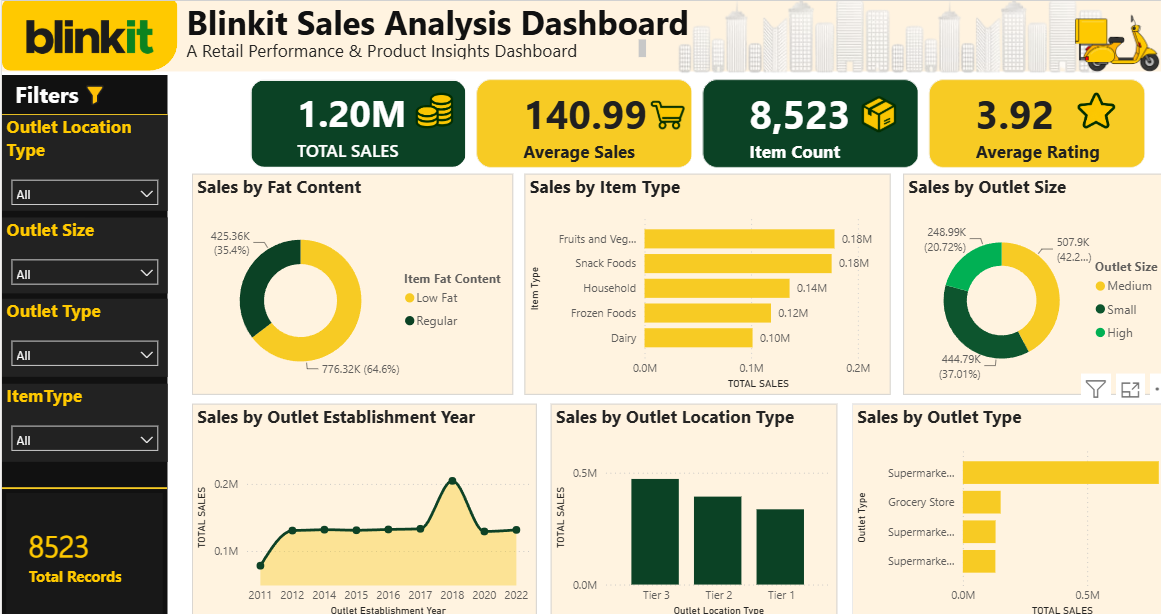

The dashboard page shown, as its layout file describes it:
{"tool":"powerbi","page":{"name":"Page 1","canvas":[1280,720],"ordinal":0},"visuals":[{"type":"cardVisual","fields":{"Data":["Blinkit_Sales.TOTAL SALES"]},"box":[252.5,112.5,269,130.4],"z":0},{"type":"cardVisual","fields":{"Data":["Blinkit_Sales.Average Sales"]},"box":[498.1,112.5,269,130],"z":1000},{"type":"cardVisual","fields":{"Data":["BlinkIT-Grocery-Data.Number of Items Display"]},"box":[743.7,112.5,269,130],"z":2000},{"type":"cardVisual","fields":{"Data":["Blinkit_Sales.Average Rating"]},"box":[989.4,112.5,269,130],"z":3000},{"type":"clusteredBarChart","title":"Sales by Item Type","fields":{"Category":["Blinkit_Sales.Item Type"],"Y":["Blinkit_Sales.TOTAL SALES"]},"box":[568.1,231.9,397.9,240],"z":4000},{"type":"donutChart","title":"Sales by Fat Content","fields":{"Category":["Blinkit_Sales.Item Fat Content"],"Y":["Blinkit_Sales.TOTAL SALES"]},"box":[205.8,231.9,348.5,240.1],"z":5000},{"type":"donutChart","title":"Sales by Outlet Size","fields":{"Category":["Blinkit_Sales.Outlet Size"],"Y":["Blinkit_Sales.TOTAL SALES"]},"box":[979.5,231.9,300.5,240],"z":6000},{"type":"lineChart","title":"Sales by Outlet Establishment Year","fields":{"Category":["Blinkit_Sales.Outlet Establishment Year"],"Y":["Blinkit_Sales.TOTAL SALES"]},"box":[205.8,482.6,374.6,237.4],"z":7000},{"type":"clusteredColumnChart","title":"Sales by Outlet Location Type","fields":{"Category":["Blinkit_Sales.Outlet Location Type"],"Y":["Blinkit_Sales.TOTAL SALES"]},"box":[596.2,482.6,311.5,237.4],"z":8000},{"type":"clusteredBarChart","title":"Sales by Outlet Type","fields":{"Category":["Blinkit_Sales.Outlet Type"],"Y":["Blinkit_Sales.TOTAL SALES"]},"box":[923,482.6,357,237.4],"z":9000},{"type":"shape","box":[0,12.3,1280,109],"z":10000},{"type":"textbox","title":"Blinkit Sales Analysis Dashboard","box":[194.9,42.5,700,45],"z":11000},{"type":"textbox","box":[194.9,81,509.1,31.6],"z":12000},{"type":"shape","box":[0,124.9,179.8,595.5],"z":13000},{"type":"textbox","box":[45.3,12,90.6,52.1],"z":14000},{"type":"textbox","box":[9.6,124.9,112.5,65.9],"z":15000},{"type":"shape","box":[0,104.3,179.8,127.6],"z":16000},{"type":"slicer","title":"Outlet Location Type","fields":{"Values":["Blinkit_Sales.Outlet Location Type"]},"box":[0,168.8,179.8,104.3],"z":17000},{"type":"slicer","title":"Outlet Size","fields":{"Values":["Blinkit_Sales.Outlet Size"]},"box":[0,279.5,179.8,82.3],"z":18000},{"type":"slicer","title":"Outlet Type","fields":{"Values":["Blinkit_Sales.Outlet Type"]},"box":[0,368.2,179.8,85.1],"z":19000},{"type":"slicer","title":"ItemType","fields":{"Values":["Blinkit_Sales.Item Type"]},"box":[0,459.7,179.8,85.1],"z":20000},{"type":"shape","box":[0,42.5,190.7,78.2],"z":21000},{"type":"image","box":[5.4,0,179.8,167.4],"z":22000},{"type":"image","box":[649.1,0,631.2,157.8],"z":23000},{"type":"image","box":[1143.2,20.4,135.8,133.1],"z":24000},{"type":"image","box":[66.5,134.4,69.2,25.8],"z":25000},{"type":"shape","box":[0,545.8,179.2,55.7],"z":26000},{"type":"image","box":[441.2,143.9,57,39.4],"z":28000},{"type":"image","box":[704.6,152.1,36.7,32.6],"z":29000},{"type":"image","box":[923.2,148,58.4,39.4],"z":29001},{"type":"image","box":[1159.4,143.9,58.4,39.4],"z":29002},{"type":"cardVisual","fields":{"Data":["Blinkit_Sales.Total Records"]},"box":[0,574.3,179.2,145.3],"z":29003}]}

Visuals, with their boxes in screenshot pixels (x1, y1, x2, y2):
cardVisual - Blinkit_Sales.TOTAL SALES: <box>228,74,471,192</box>
cardVisual - Blinkit_Sales.Average Sales: <box>450,74,693,192</box>
cardVisual - BlinkIT-Grocery-Data.Number of Items Display: <box>672,74,915,192</box>
cardVisual - Blinkit_Sales.Average Rating: <box>894,74,1137,192</box>
"Sales by Item Type" clusteredBarChart: <box>513,182,873,399</box>
"Sales by Fat Content" donutChart: <box>186,182,501,399</box>
"Sales by Outlet Size" donutChart: <box>885,182,1157,399</box>
"Sales by Outlet Establishment Year" lineChart: <box>186,409,524,613</box>
"Sales by Outlet Location Type" clusteredColumnChart: <box>539,409,820,613</box>
"Sales by Outlet Type" clusteredBarChart: <box>834,409,1157,613</box>
shape: <box>0,0,1157,82</box>
"Blinkit Sales Analysis Dashboard" textbox: <box>176,11,809,52</box>
textbox: <box>176,46,636,75</box>
shape: <box>0,86,162,613</box>
textbox: <box>41,0,123,31</box>
textbox: <box>9,86,110,145</box>
shape: <box>0,67,162,182</box>
"Outlet Location Type" slicer: <box>0,125,162,220</box>
"Outlet Size" slicer: <box>0,225,162,300</box>
"Outlet Type" slicer: <box>0,305,162,382</box>
"ItemType" slicer: <box>0,388,162,465</box>
shape: <box>0,11,172,82</box>
image: <box>5,0,167,124</box>
image: <box>587,0,1157,115</box>
image: <box>1033,0,1156,111</box>
image: <box>60,94,123,118</box>
shape: <box>0,466,162,516</box>
image: <box>399,103,450,138</box>
image: <box>637,110,670,140</box>
image: <box>834,107,887,142</box>
image: <box>1048,103,1100,138</box>
cardVisual - Blinkit_Sales.Total Records: <box>0,492,162,613</box>
